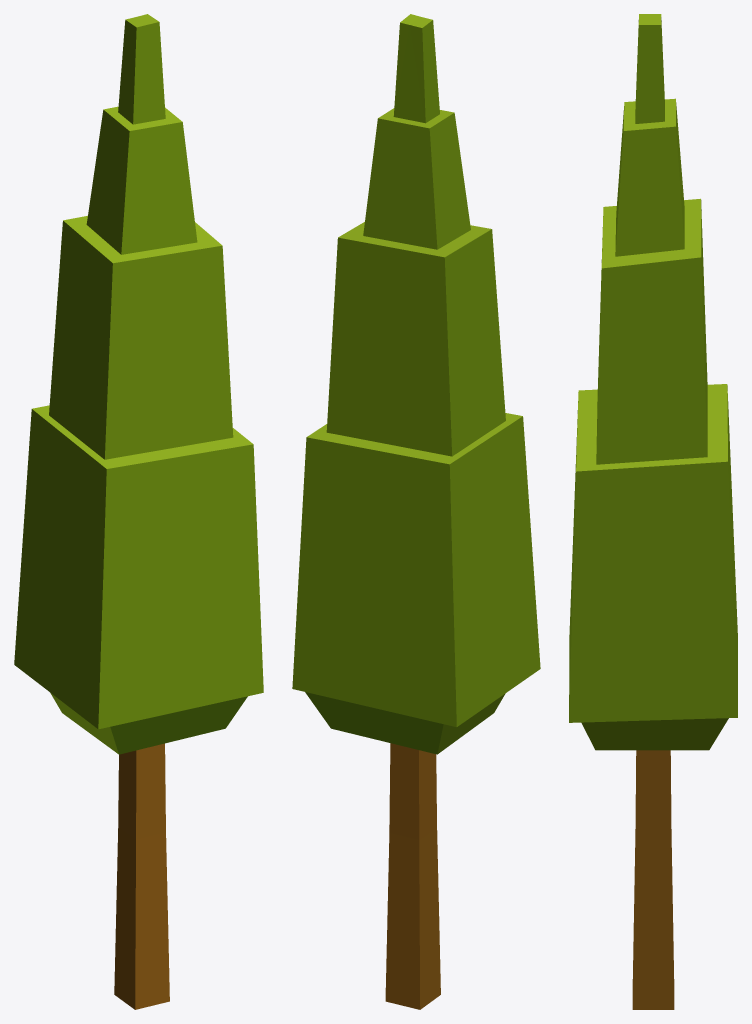
Rendered from SmallMore_SF_Prop_Tree_010.fbx.
3 views of the same model, side by side, from view 1: azimuth 30°, elevation 25°; view 2: azimuth 150°, elevation 25°; view 3: azimuth 270°, elevation 25° (orthographic).
Parts seen in each view (by area): view 1: SF_Prop_Tree_010; view 2: SF_Prop_Tree_010; view 3: SF_Prop_Tree_010.
Boxes of the visible parts, x1=… form: SF_Prop_Tree_010: x1=14, y1=14, x2=263, y2=1009; SF_Prop_Tree_010: x1=292, y1=14, x2=540, y2=1009; SF_Prop_Tree_010: x1=569, y1=14, x2=737, y2=1009.
Size of the model in its own units: 152 by 862 by 134.
